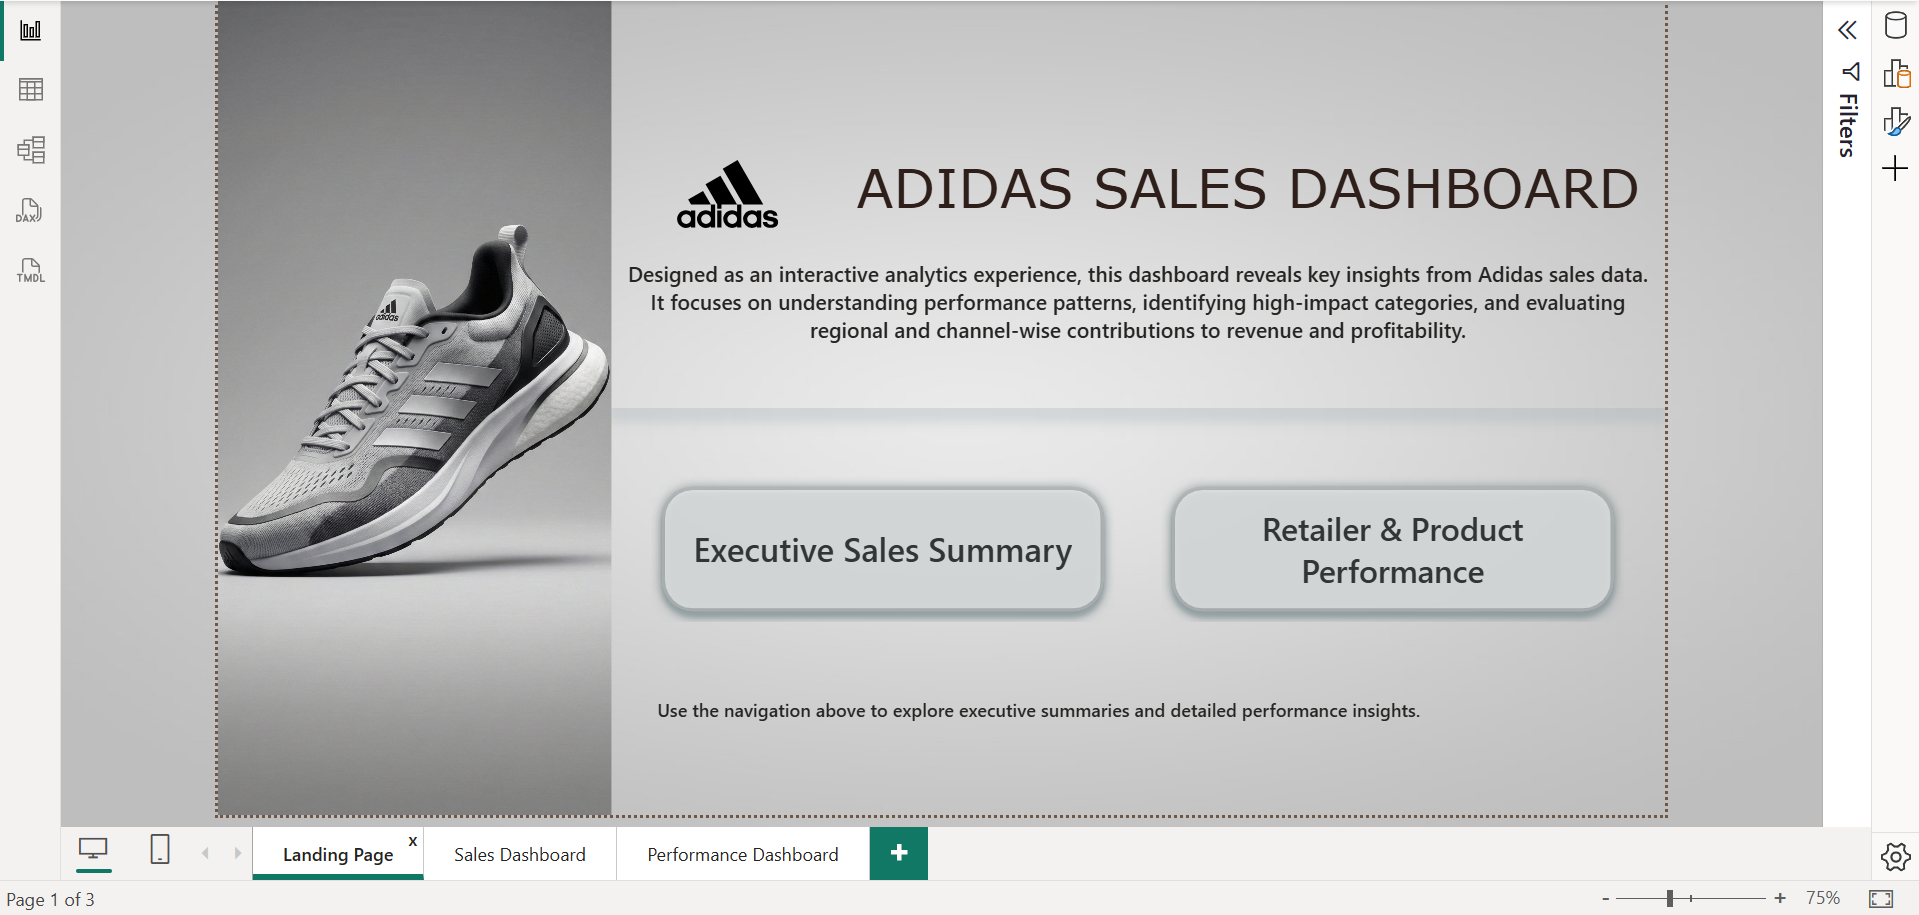

What the dashboard file says about the page in this screenshot:
{"tool":"powerbi","page":{"name":"Landing Page","canvas":[1280,720],"ordinal":0},"visuals":[{"type":"textbox","box":[347.6,111.1,932.4,248.4],"z":0},{"type":"image","box":[382.9,125.7,134.5,89.1],"z":1},{"type":"image","box":[0,0,347.8,720.5],"z":2},{"type":"actionButton","box":[382.9,420.9,409.2,128.6],"z":3},{"type":"actionButton","box":[834.5,420.9,409.2,128.6],"z":4},{"type":"textbox","box":[382.9,610.9,726.3,58.5],"z":5}]}

Visuals, with their boxes on the page's 1280x720 design canvas (x1, y1, x2, y2). These are canvas units, not pixel positions in the 1919x915 screenshot, which may show the page scaled, cropped or inside an application window:
textbox: x1=348, y1=111, x2=1280, y2=360
image: x1=383, y1=126, x2=517, y2=215
image: x1=0, y1=0, x2=348, y2=720
actionButton: x1=383, y1=421, x2=792, y2=550
actionButton: x1=834, y1=421, x2=1244, y2=550
textbox: x1=383, y1=611, x2=1109, y2=669
